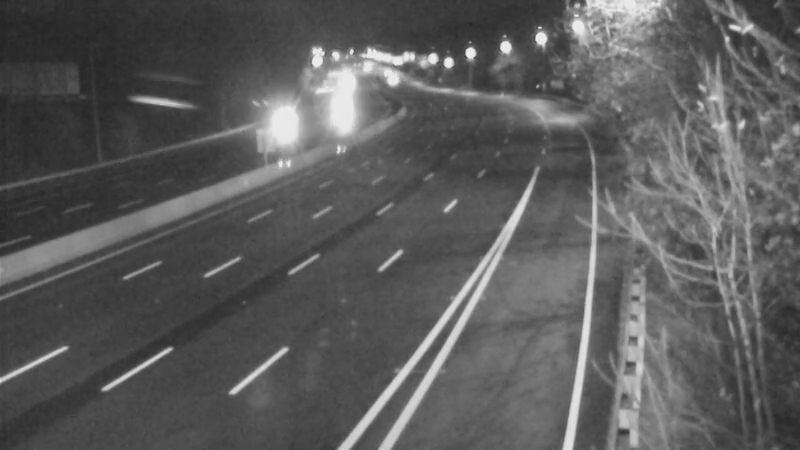vehicle: (369, 54, 419, 104), (251, 96, 301, 146), (318, 82, 368, 132)
